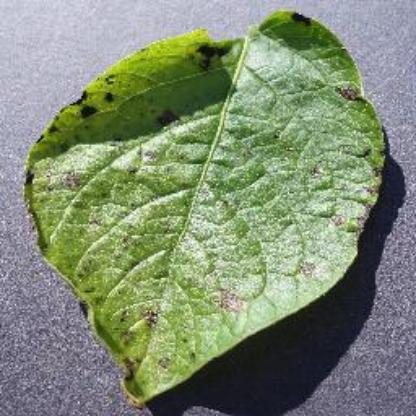Early-Blight: (27, 12, 393, 404)
